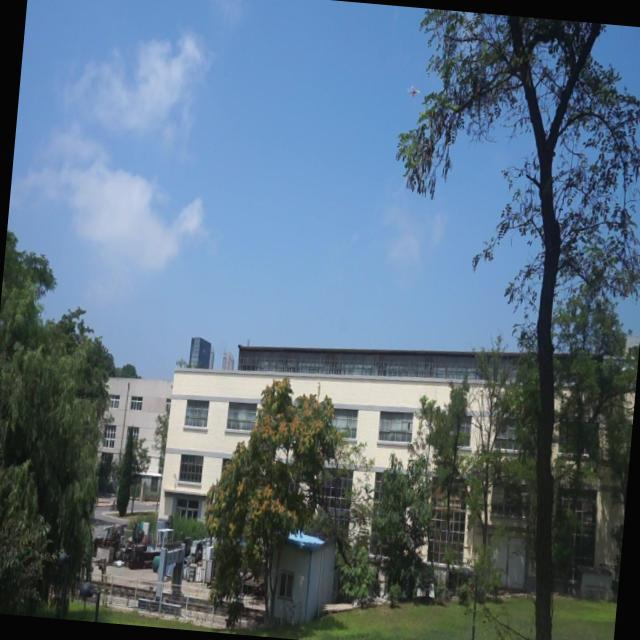drone: (405, 82, 420, 100)
